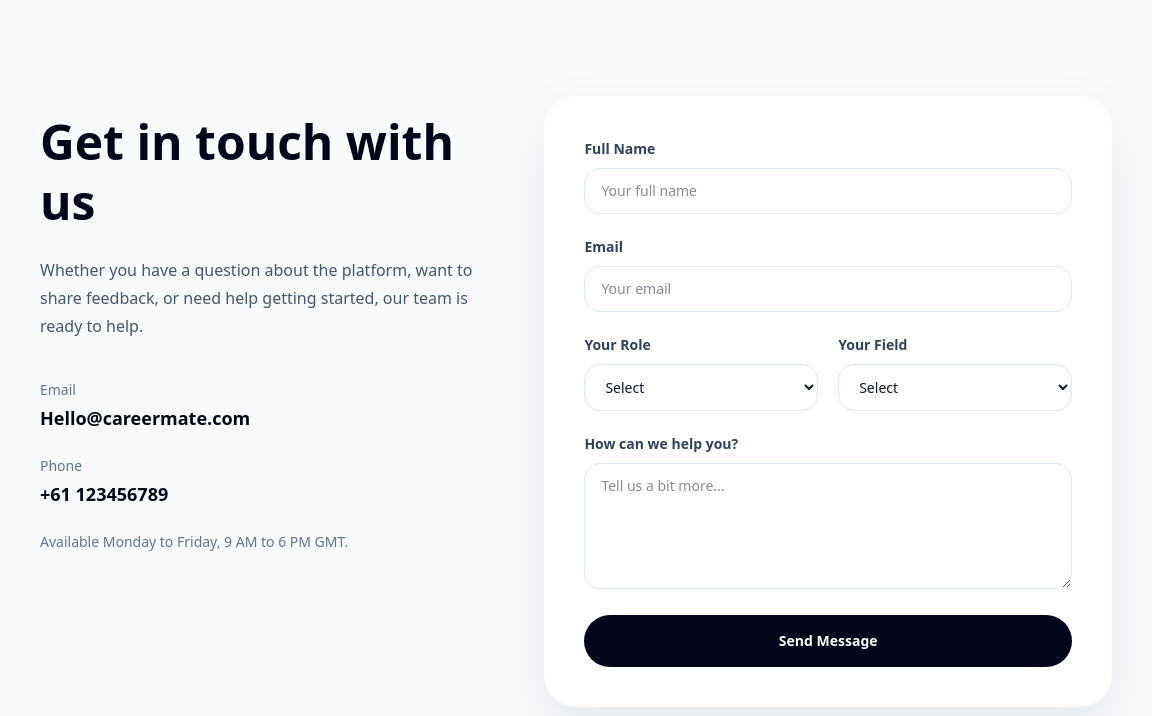
Test case: Contact form › rejects message shorter than 20 characters
The width and height of the screenshot is (1152, 716).
In the field labelled "Full Name": x=828, y=191 584,168 -> 1072,214, type "Jane"
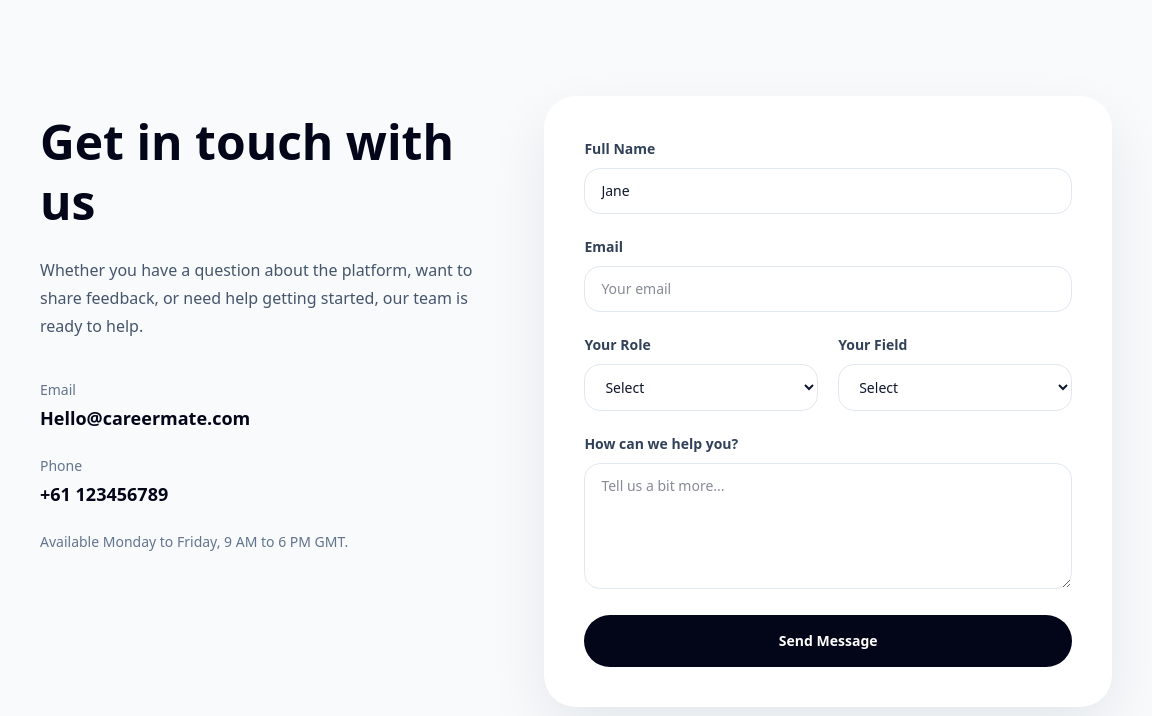
In the field labelled "Email": x=828, y=289 584,266 -> 1072,312, type "jane@test.com"
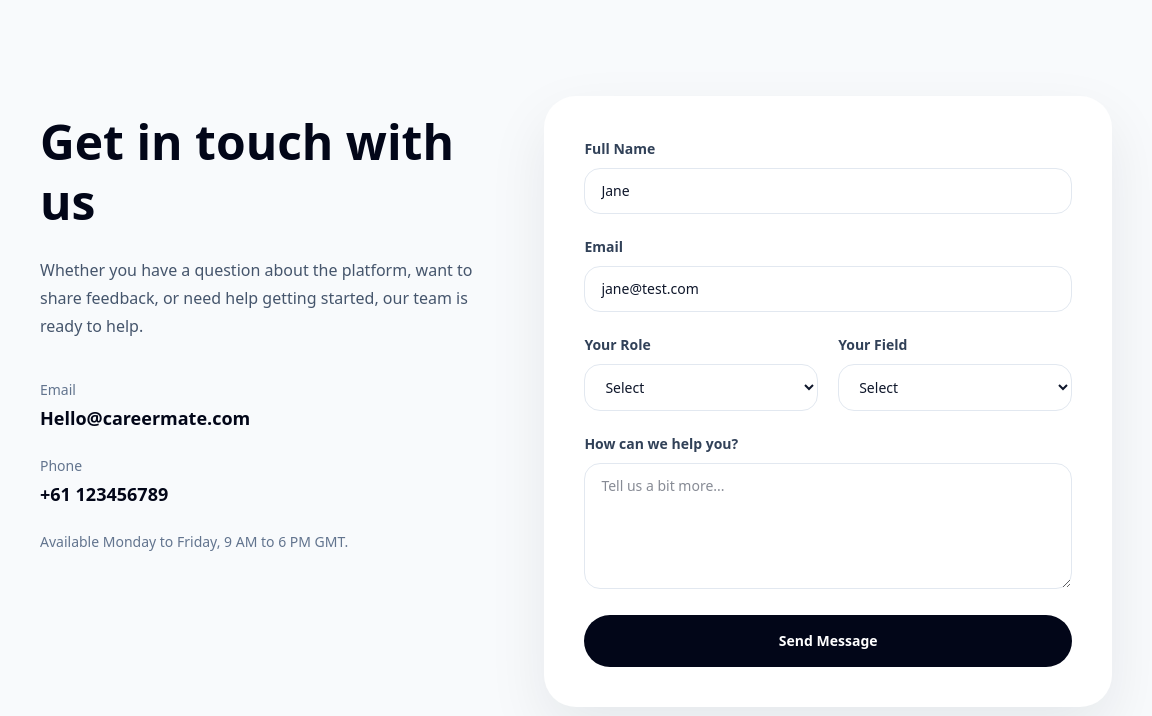
In the text box labelled "How can we help you?": x=828, y=526 584,463 -> 1072,589, type "too short"
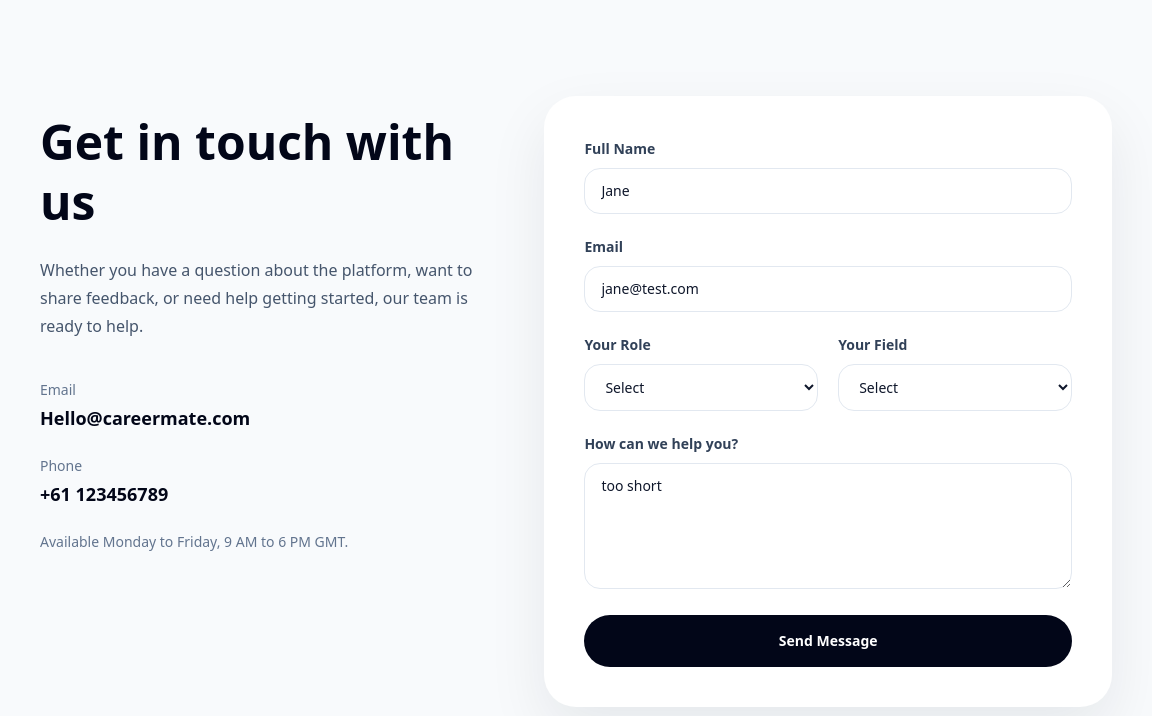
Submit the form labelled "Email", box 584,136 -> 1072,667
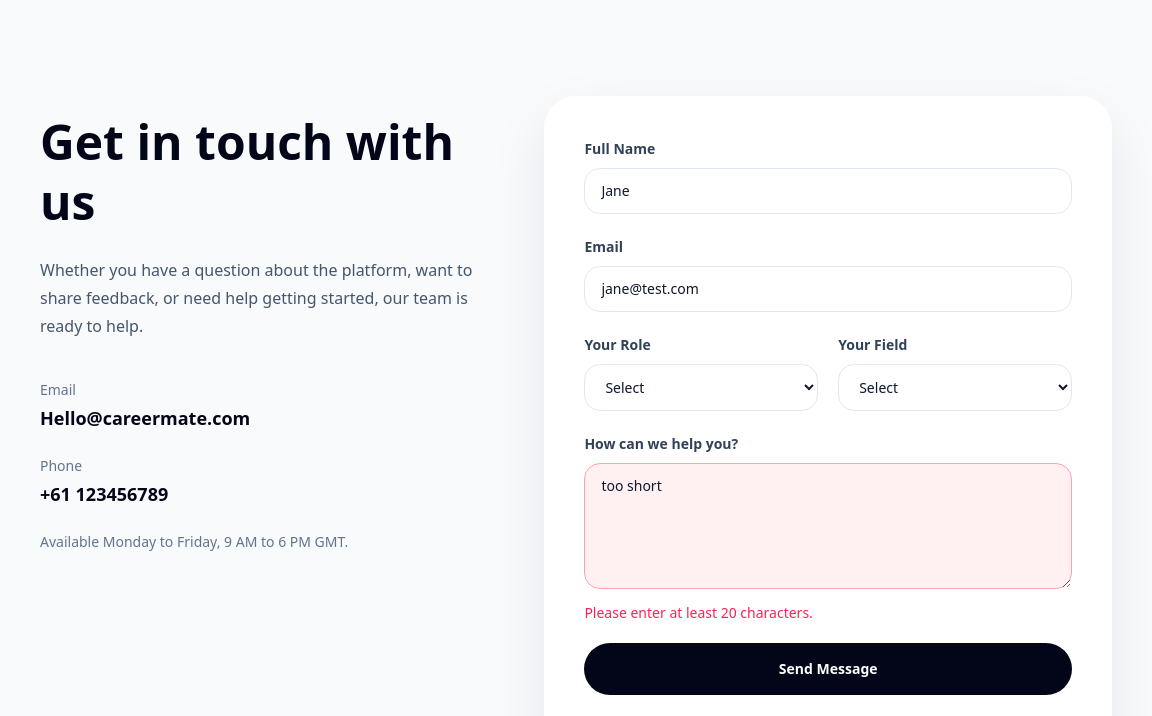
Expected: the text "Please enter at least 20 characters." is shown, 584,603 -> 813,622
